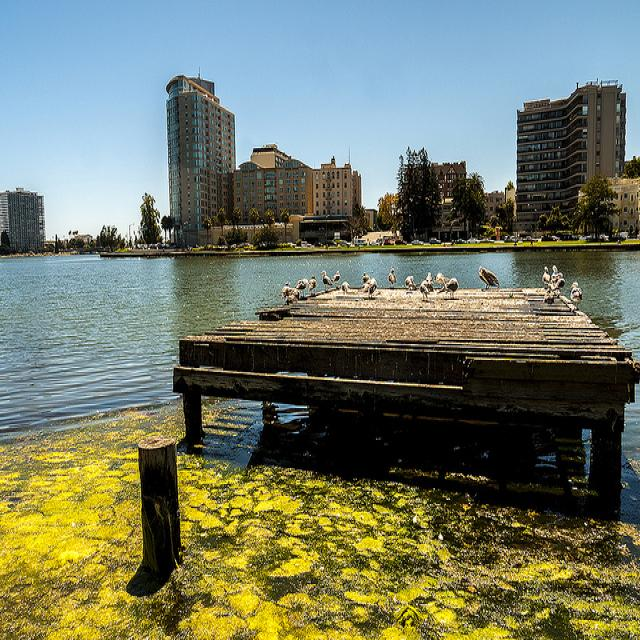Vehicle: (521, 234, 538, 243), (541, 232, 556, 242), (561, 232, 575, 242), (504, 235, 518, 242), (394, 238, 408, 245), (613, 234, 626, 241), (468, 237, 480, 244), (429, 237, 441, 244), (412, 240, 424, 245), (579, 235, 591, 240), (479, 238, 494, 242)
